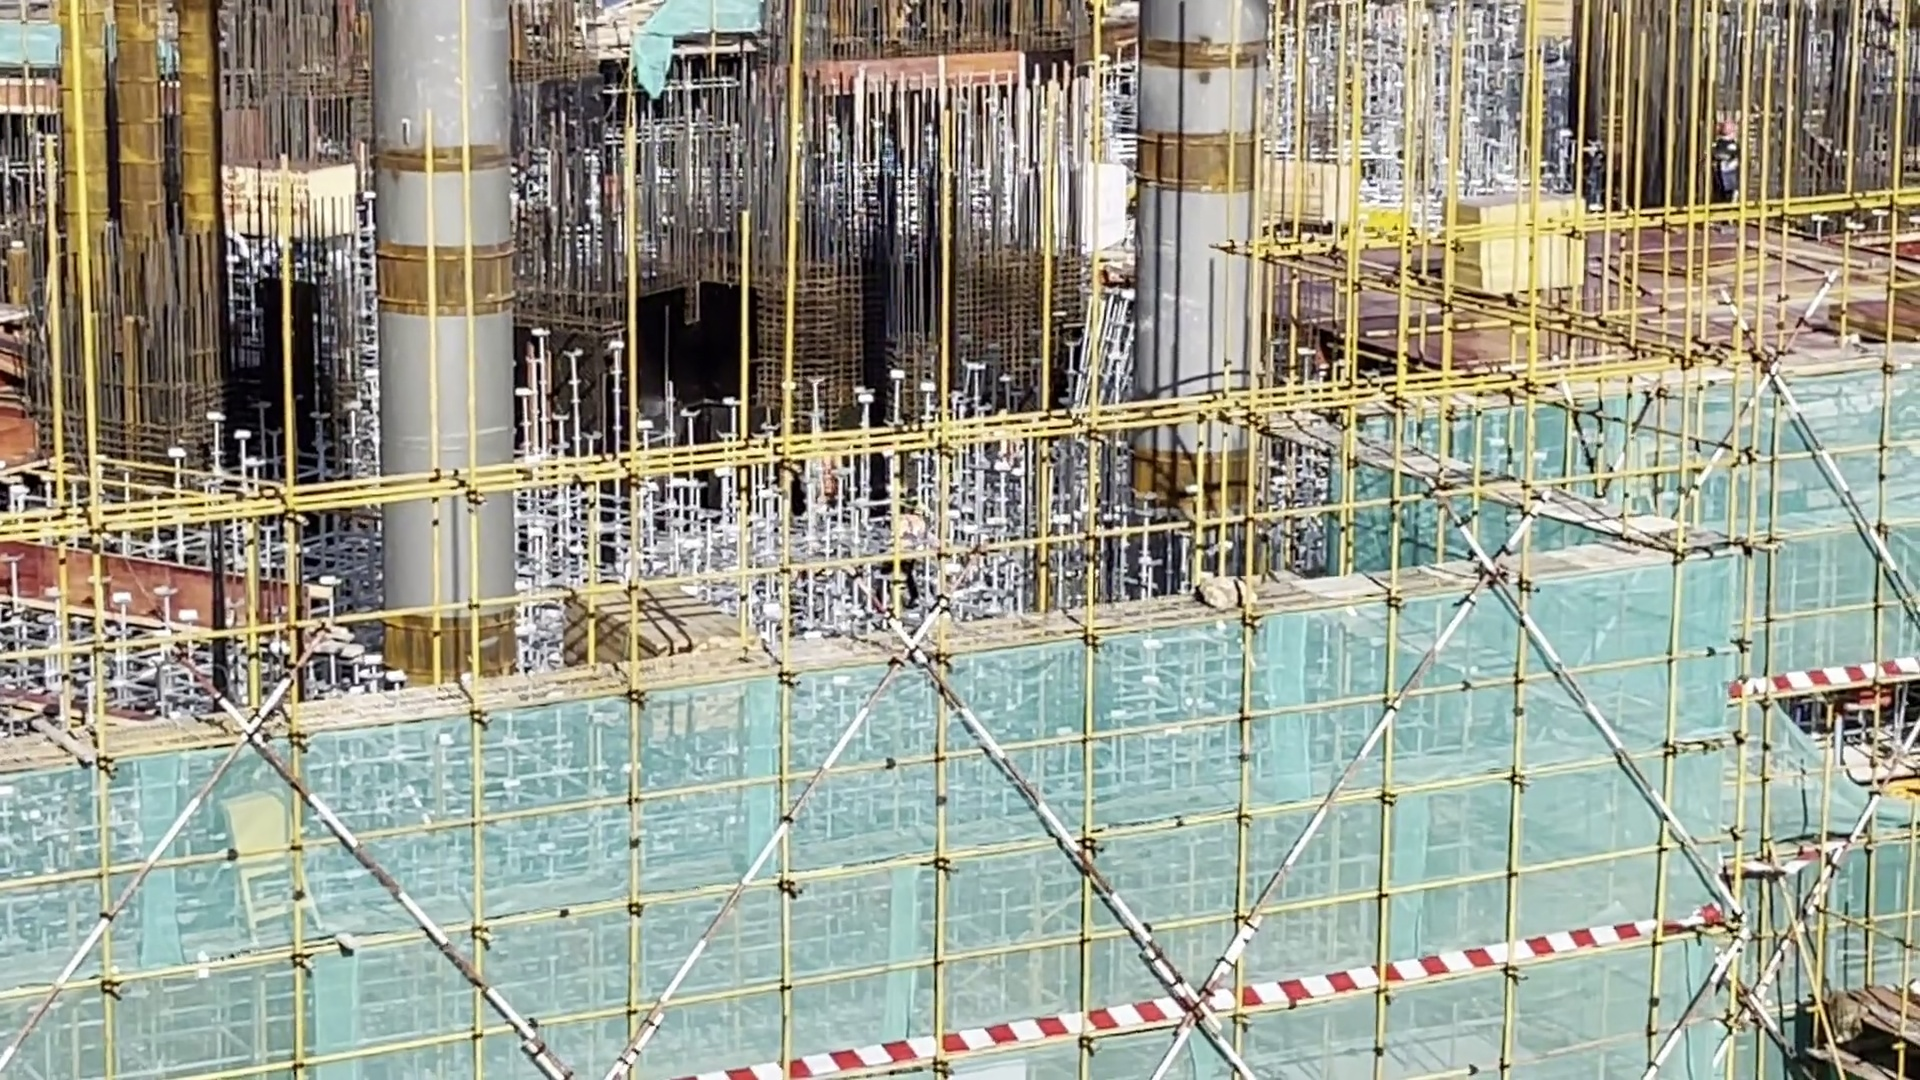ebox: (216, 790, 332, 932)
person: (1700, 112, 1750, 215)
vest: (1711, 141, 1739, 179)
